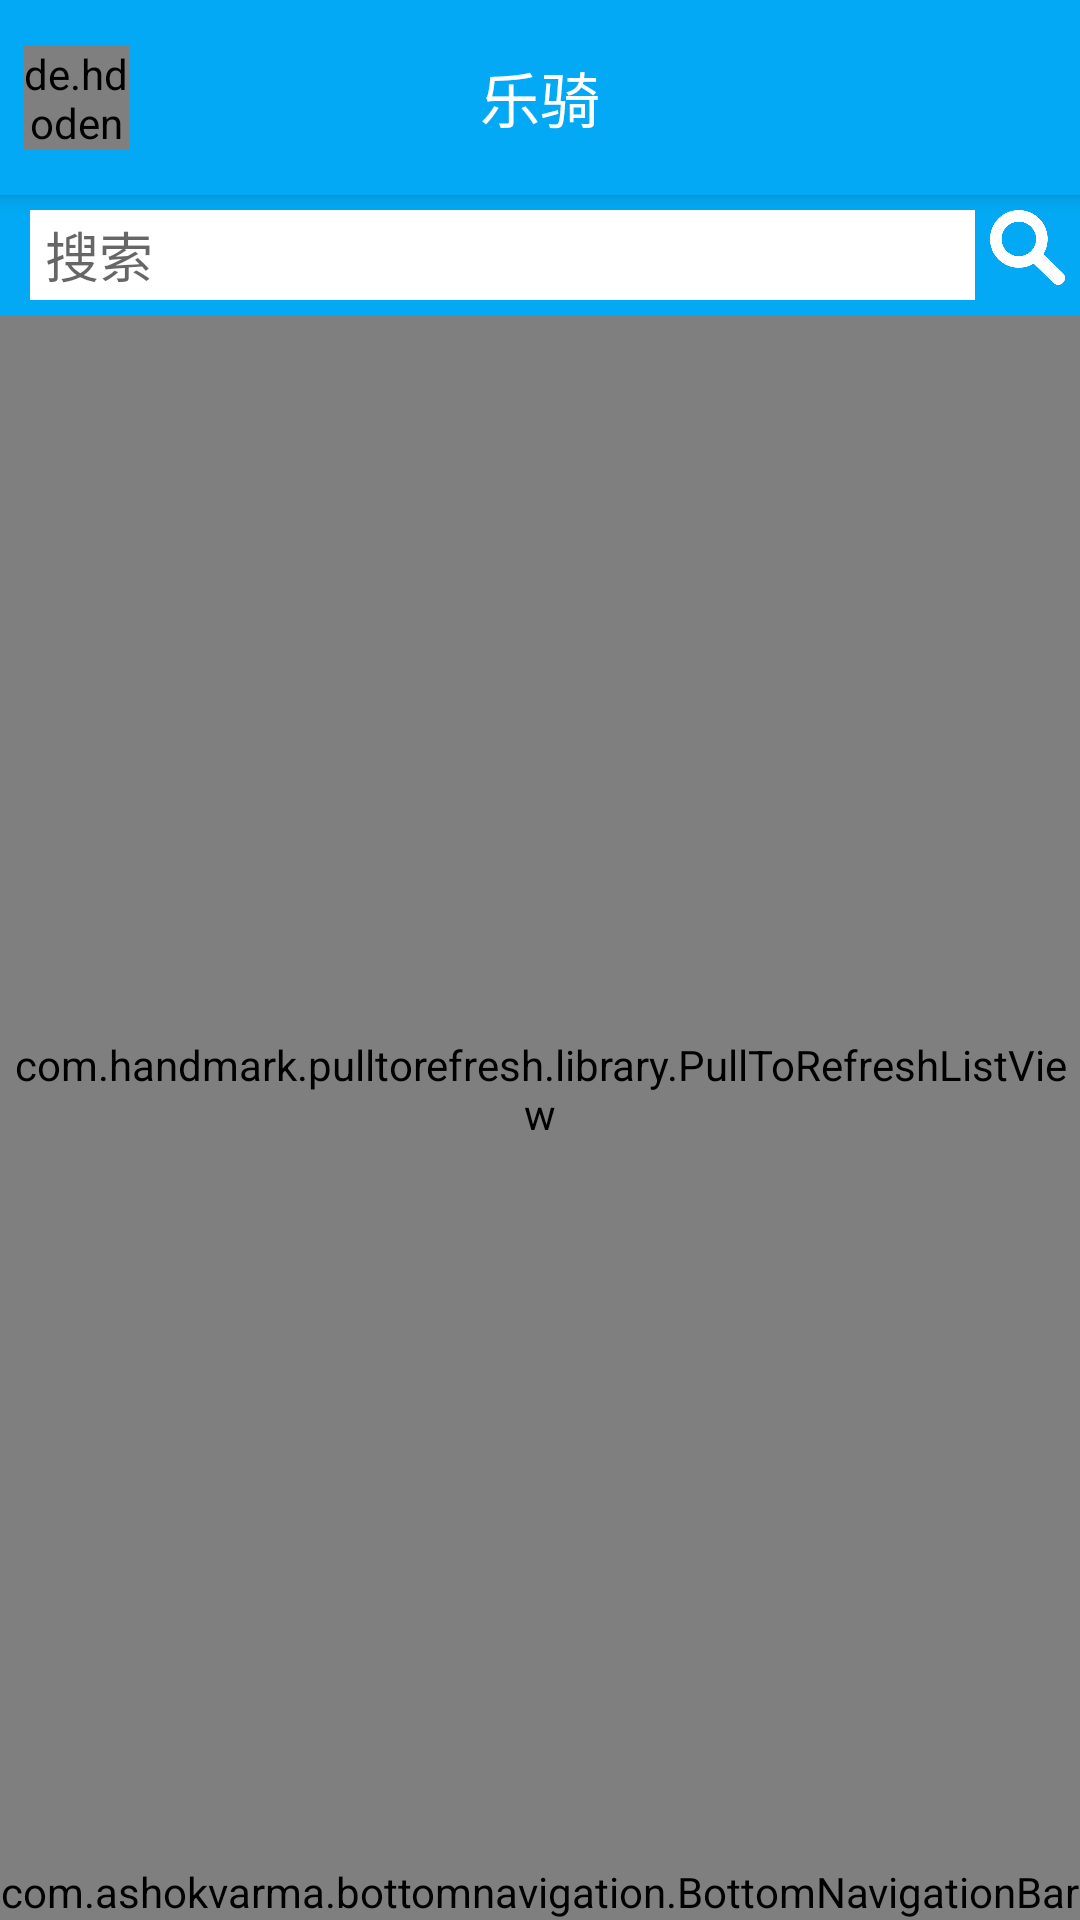

Screen size 1080x1920. Icon name, then its center in pixels as [x,y]:
search: [1027,247]
